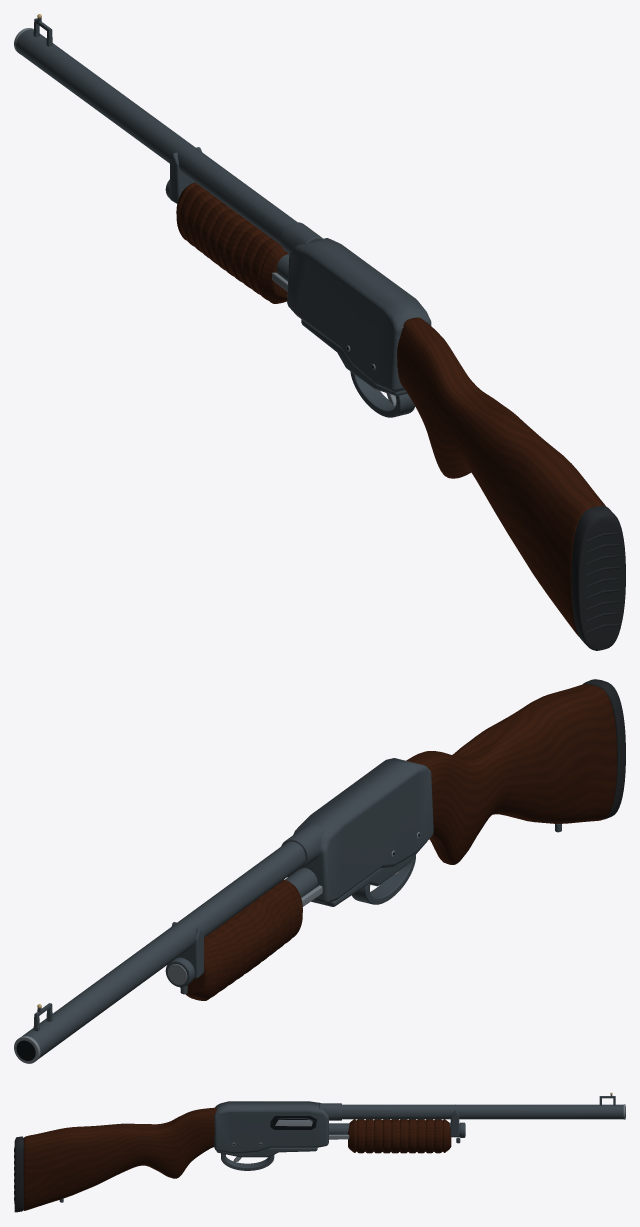
The model's file is linbei.glb.
3 views of the same model, one above another, from view 1: azimuth 30°, elevation 25°; view 2: azimuth 150°, elevation 25°; view 3: azimuth 270°, elevation 25° (orthographic). The views are drawn at different scales.
Parts seen in each view (by area): view 1: Lin_Bei_RenderMesh; view 2: Lin_Bei_RenderMesh; view 3: Lin_Bei_RenderMesh.
Part boxes in pixels (box(x1,y1,x2,y2)): Lin_Bei_RenderMesh: box(14, 28, 625, 650); Lin_Bei_RenderMesh: box(14, 679, 625, 1063); Lin_Bei_RenderMesh: box(14, 1101, 625, 1212).
Size of the model in its own units: 0.0567 by 0.22 by 1.03.
Materials: 6 (1 with a texture image).
